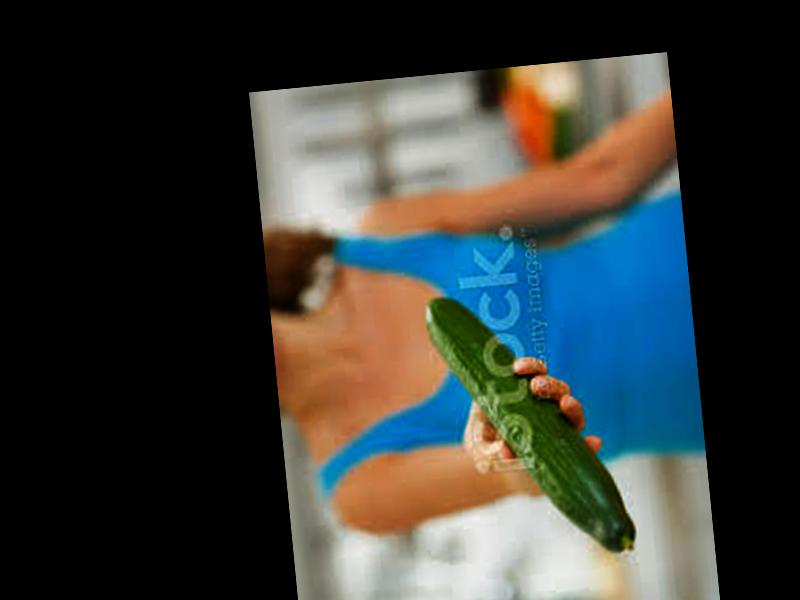Cucumber: (424, 280, 638, 567)
